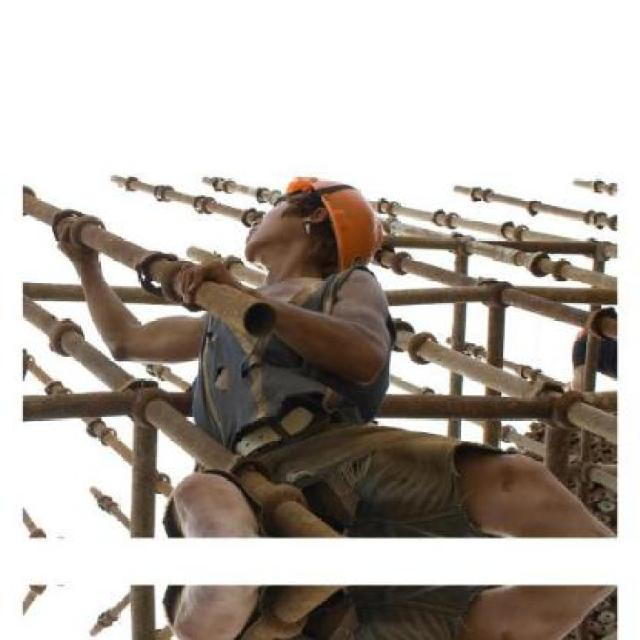helmet: (245, 171, 380, 269)
